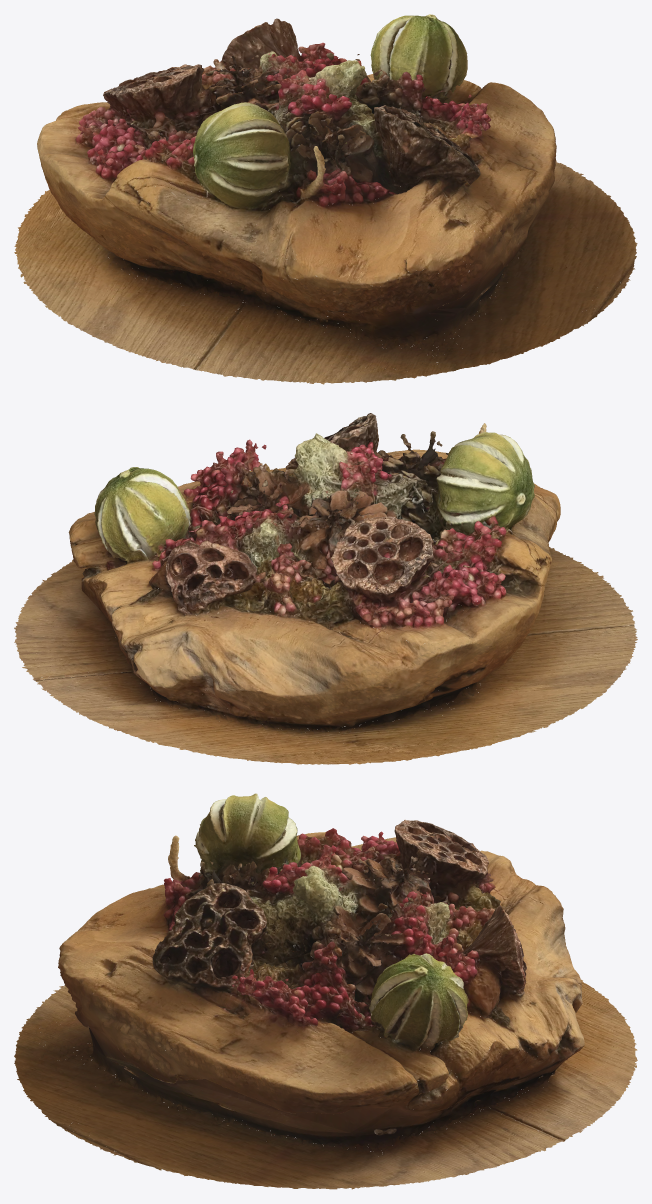
File: sf-floral-piece-eae93d.glb
The picture shows the model from 3 angles, top to bottom: view 1: azimuth 30°, elevation 25°; view 2: azimuth 150°, elevation 25°; view 3: azimuth 270°, elevation 25°; orthographic projection.
Visible parts, largest first — view 1: Object_2, Object_5; view 2: Object_2, Object_5; view 3: Object_2, Object_5.
Part boxes in pixels (x1=…): Object_2: x1=14, y1=15, x2=637, y2=384; Object_5: x1=21, y1=14, x2=634, y2=383; Object_2: x1=14, y1=413, x2=637, y2=764; Object_5: x1=40, y1=413, x2=637, y2=757; Object_2: x1=14, y1=793, x2=637, y2=1189; Object_5: x1=24, y1=796, x2=582, y2=1189.
Bounding box in the file's own units: 1.04 × 0.3723 × 1.04.
Materials: 2 (2 with a texture image).
